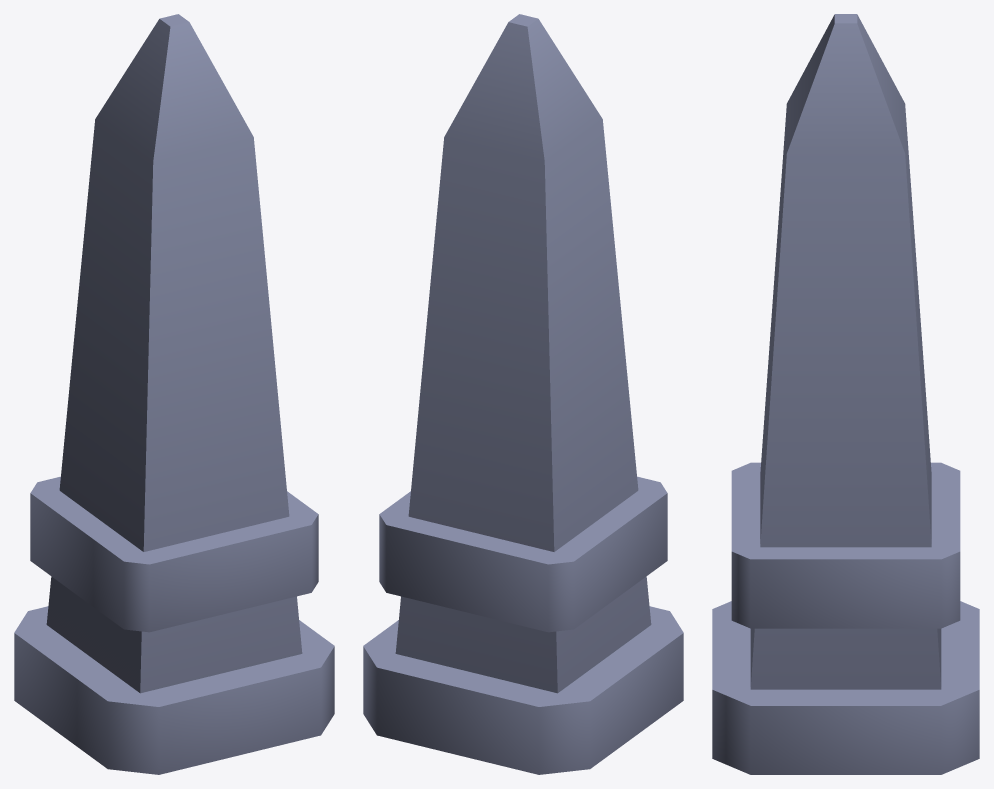
The model's file is K_pillar-obelisk.glb.
3 views of the same model, side by side, from view 1: azimuth 30°, elevation 25°; view 2: azimuth 150°, elevation 25°; view 3: azimuth 270°, elevation 25° (orthographic).
Visible parts, largest first — view 1: pillar-obelisk; view 2: pillar-obelisk; view 3: pillar-obelisk.
Part boxes in pixels (x1=…): pillar-obelisk: x1=14, y1=14, x2=334, y2=774; pillar-obelisk: x1=363, y1=14, x2=683, y2=774; pillar-obelisk: x1=712, y1=14, x2=979, y2=774.
Size of the model in its own units: 0.35 by 1.01 by 0.35.
